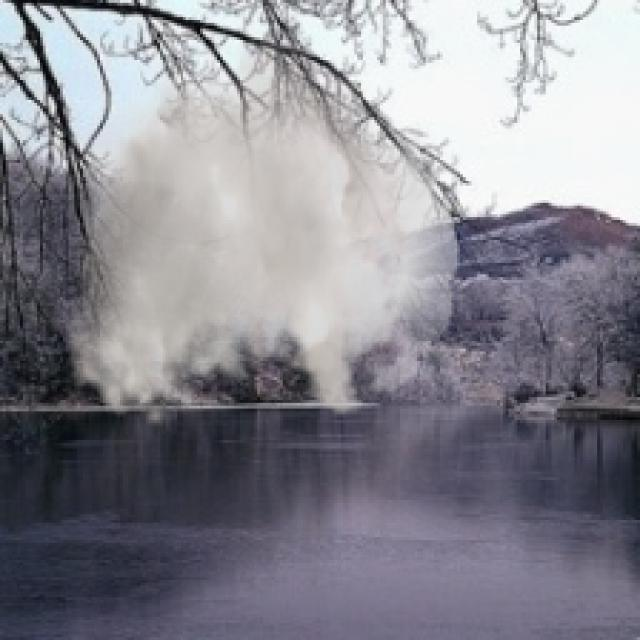smoke: (66, 14, 460, 429)
